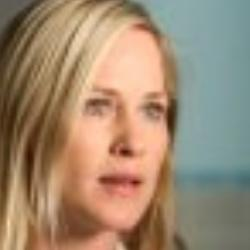face: (3, 1, 194, 236)
